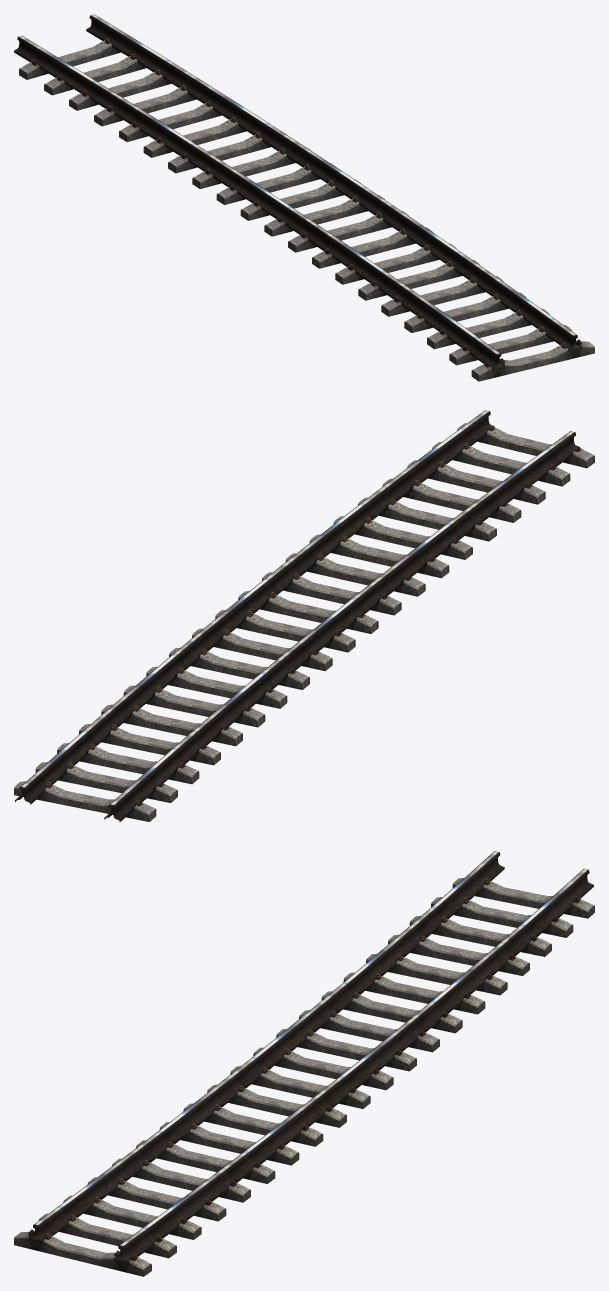
Rendered from Beton_rail_5.FBX.
The picture shows the model from 3 angles, top to bottom: view 1: azimuth 30°, elevation 25°; view 2: azimuth 150°, elevation 25°; view 3: azimuth 330°, elevation 25°; orthographic projection. The views are drawn at different scales.
Parts seen in each view (by area): view 1: Beton_rail_5_LOD0; view 2: Beton_rail_5_LOD0; view 3: Beton_rail_5_LOD0.
Boxes of the visible parts, <box> form: Beton_rail_5_LOD0: <box>14,14,594,381</box>; Beton_rail_5_LOD0: <box>14,410,594,822</box>; Beton_rail_5_LOD0: <box>14,851,594,1276</box>.
Size of what is drawn, in the model's own units: 3.19 by 16.9 by 0.4774.
